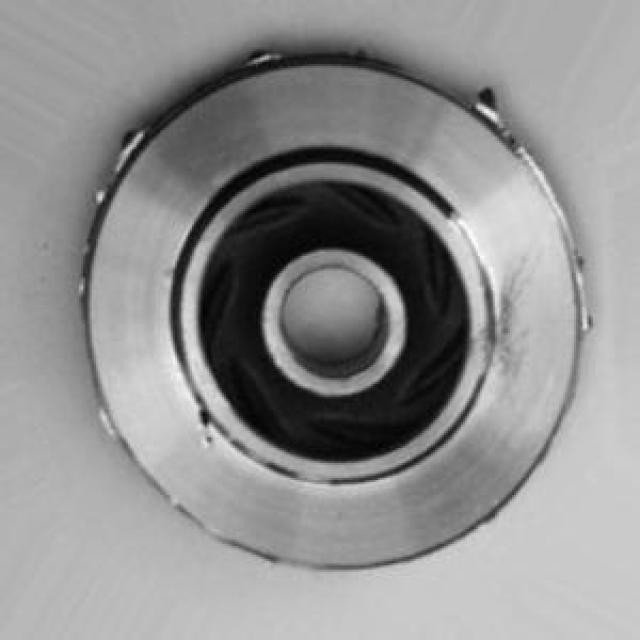Defect: (479, 82, 511, 139)
